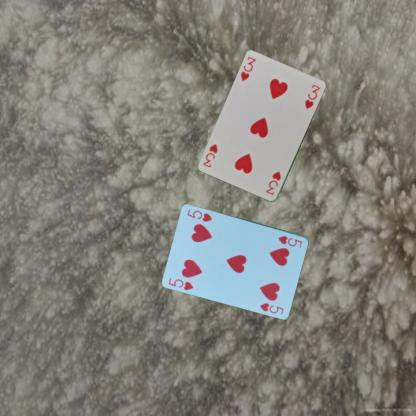3h: (238, 53, 257, 82), (263, 169, 282, 196)
5h: (166, 275, 195, 291), (276, 233, 303, 248)
